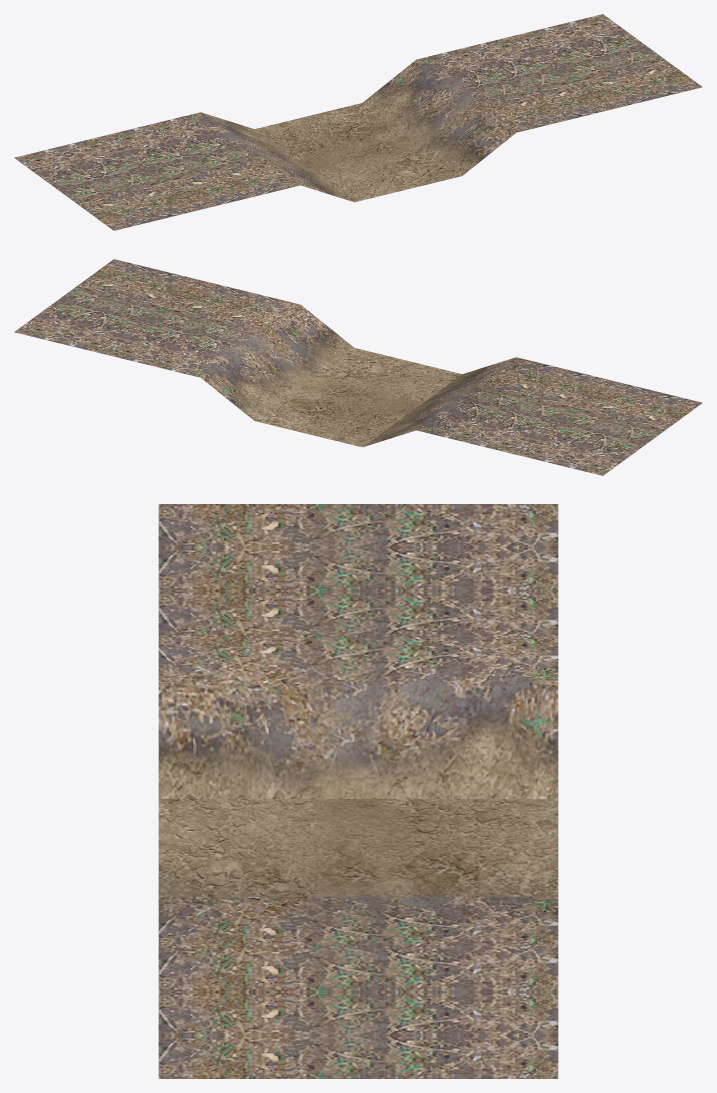
The model's file is FH_Env_Dibiao_04.FBX.
3 renders of one model, top to bottom at view 1: azimuth 30°, elevation 25°; view 2: azimuth 150°, elevation 25°; view 3: azimuth 270°, elevation 25°, orthographic. The views are drawn at different scales.
Visible parts, largest first — view 1: Plane49; view 2: Plane49; view 3: Plane49.
Boxes of the visible parts, x1,y1,x2,y2 form: Plane49: [14, 14, 702, 230]; Plane49: [14, 259, 702, 475]; Plane49: [158, 504, 558, 1078].
Bounding box in the file's own units: 34.01 × 1.66 × 10.
